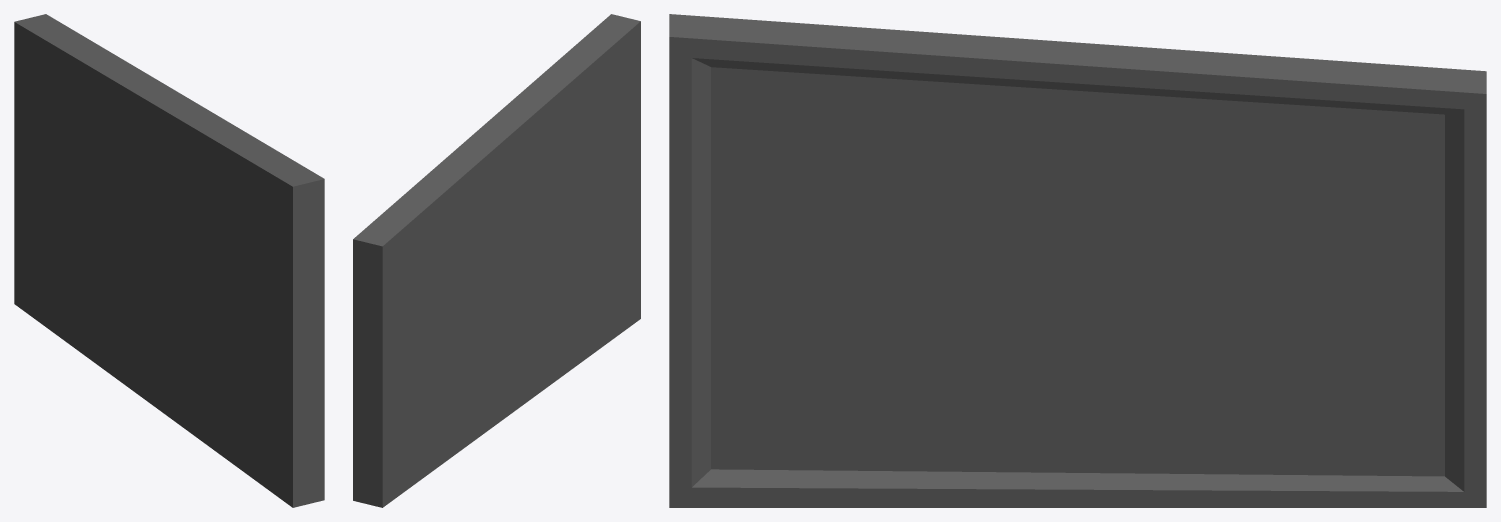
The model's file is SM_panneau.fbx.
The picture shows the model from 3 angles, left to right: view 1: azimuth 30°, elevation 25°; view 2: azimuth 150°, elevation 25°; view 3: azimuth 270°, elevation 25°; orthographic projection. The views are drawn at different scales.
Visible parts, largest first — view 1: SM_panneau; view 2: SM_panneau; view 3: SM_panneau.
Part boxes in pixels (x1,y1,x2,y2): SM_panneau: (14, 14, 324, 507); SM_panneau: (353, 14, 640, 507); SM_panneau: (669, 14, 1486, 507).
Bounding box in the file's own units: 0.0499 × 0.4807 × 0.7559.
1 material, 1 textured.
